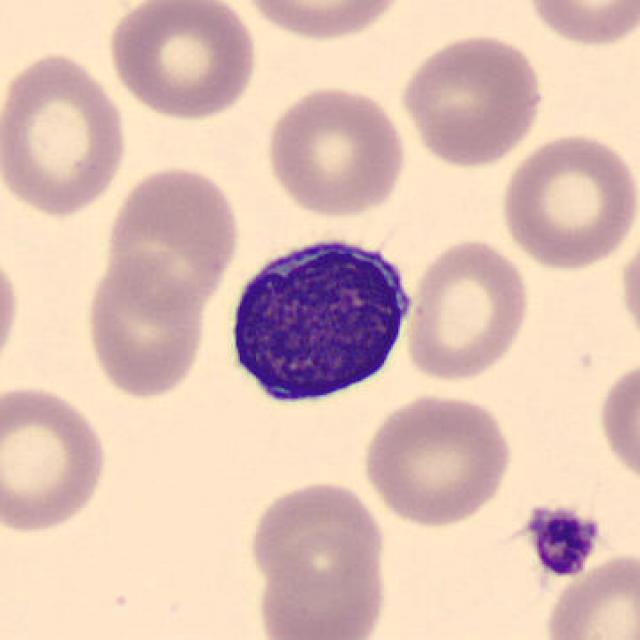Lymphocyte: (215, 222, 423, 414)
Platelets: (521, 501, 603, 580)
RBC: (0, 45, 133, 220), (100, 162, 243, 319), (358, 390, 518, 529), (394, 28, 548, 171), (496, 127, 638, 273), (261, 81, 409, 220), (400, 234, 533, 384), (80, 249, 210, 402), (103, 0, 261, 123), (0, 379, 112, 538), (243, 476, 389, 589), (252, 530, 392, 640), (539, 548, 638, 640), (234, 0, 410, 44), (594, 353, 638, 490), (521, 0, 640, 49), (615, 226, 640, 356), (0, 242, 23, 382)
